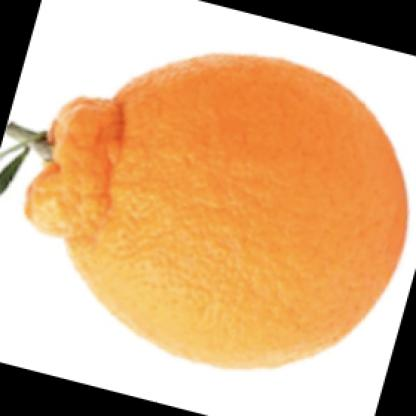orange: (22, 48, 405, 367)
